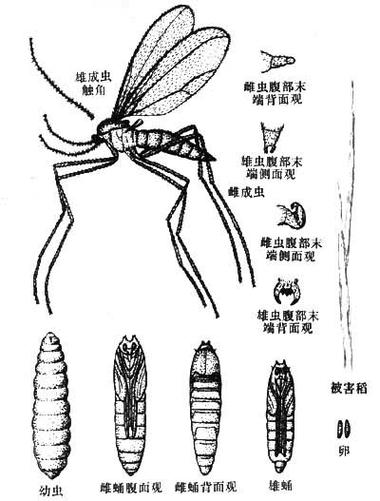Cecidomyiidae: (25, 1, 257, 321)
